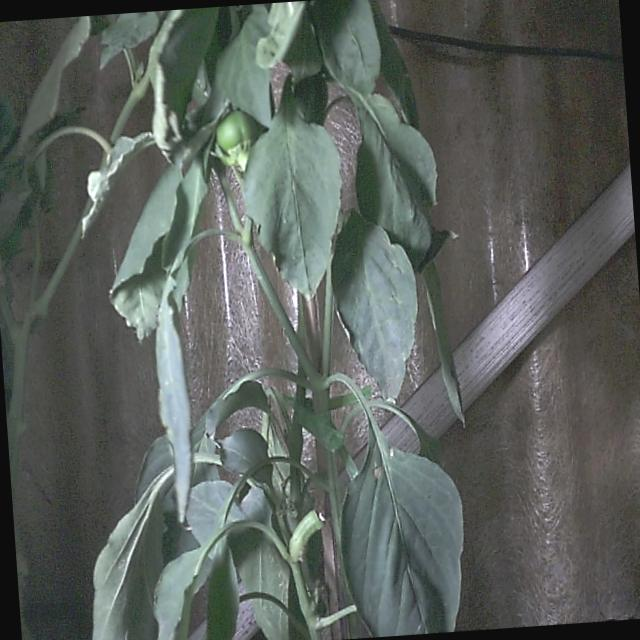Leaf: (341, 436, 462, 636), (243, 81, 340, 298), (332, 213, 416, 399), (351, 95, 436, 267), (92, 468, 171, 639), (148, 7, 218, 151), (155, 277, 191, 523), (79, 132, 152, 236), (212, 4, 271, 128), (420, 262, 463, 424), (312, 0, 380, 94), (99, 11, 158, 68), (255, 1, 304, 69)
